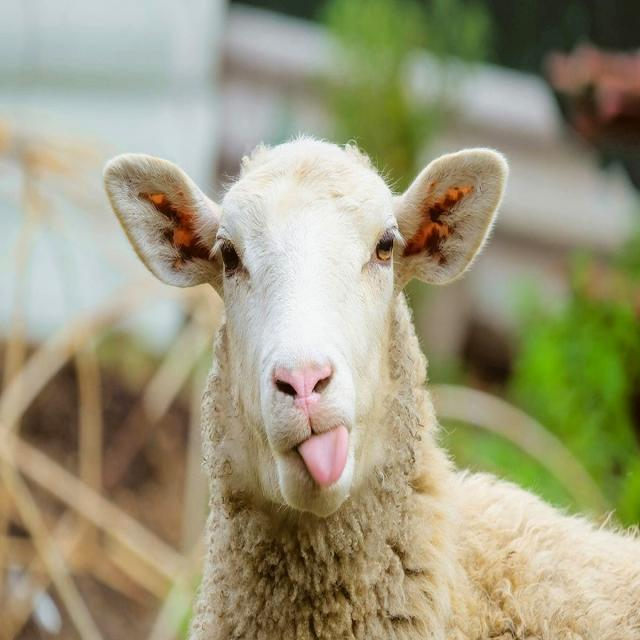sheep: (104, 138, 640, 639)
